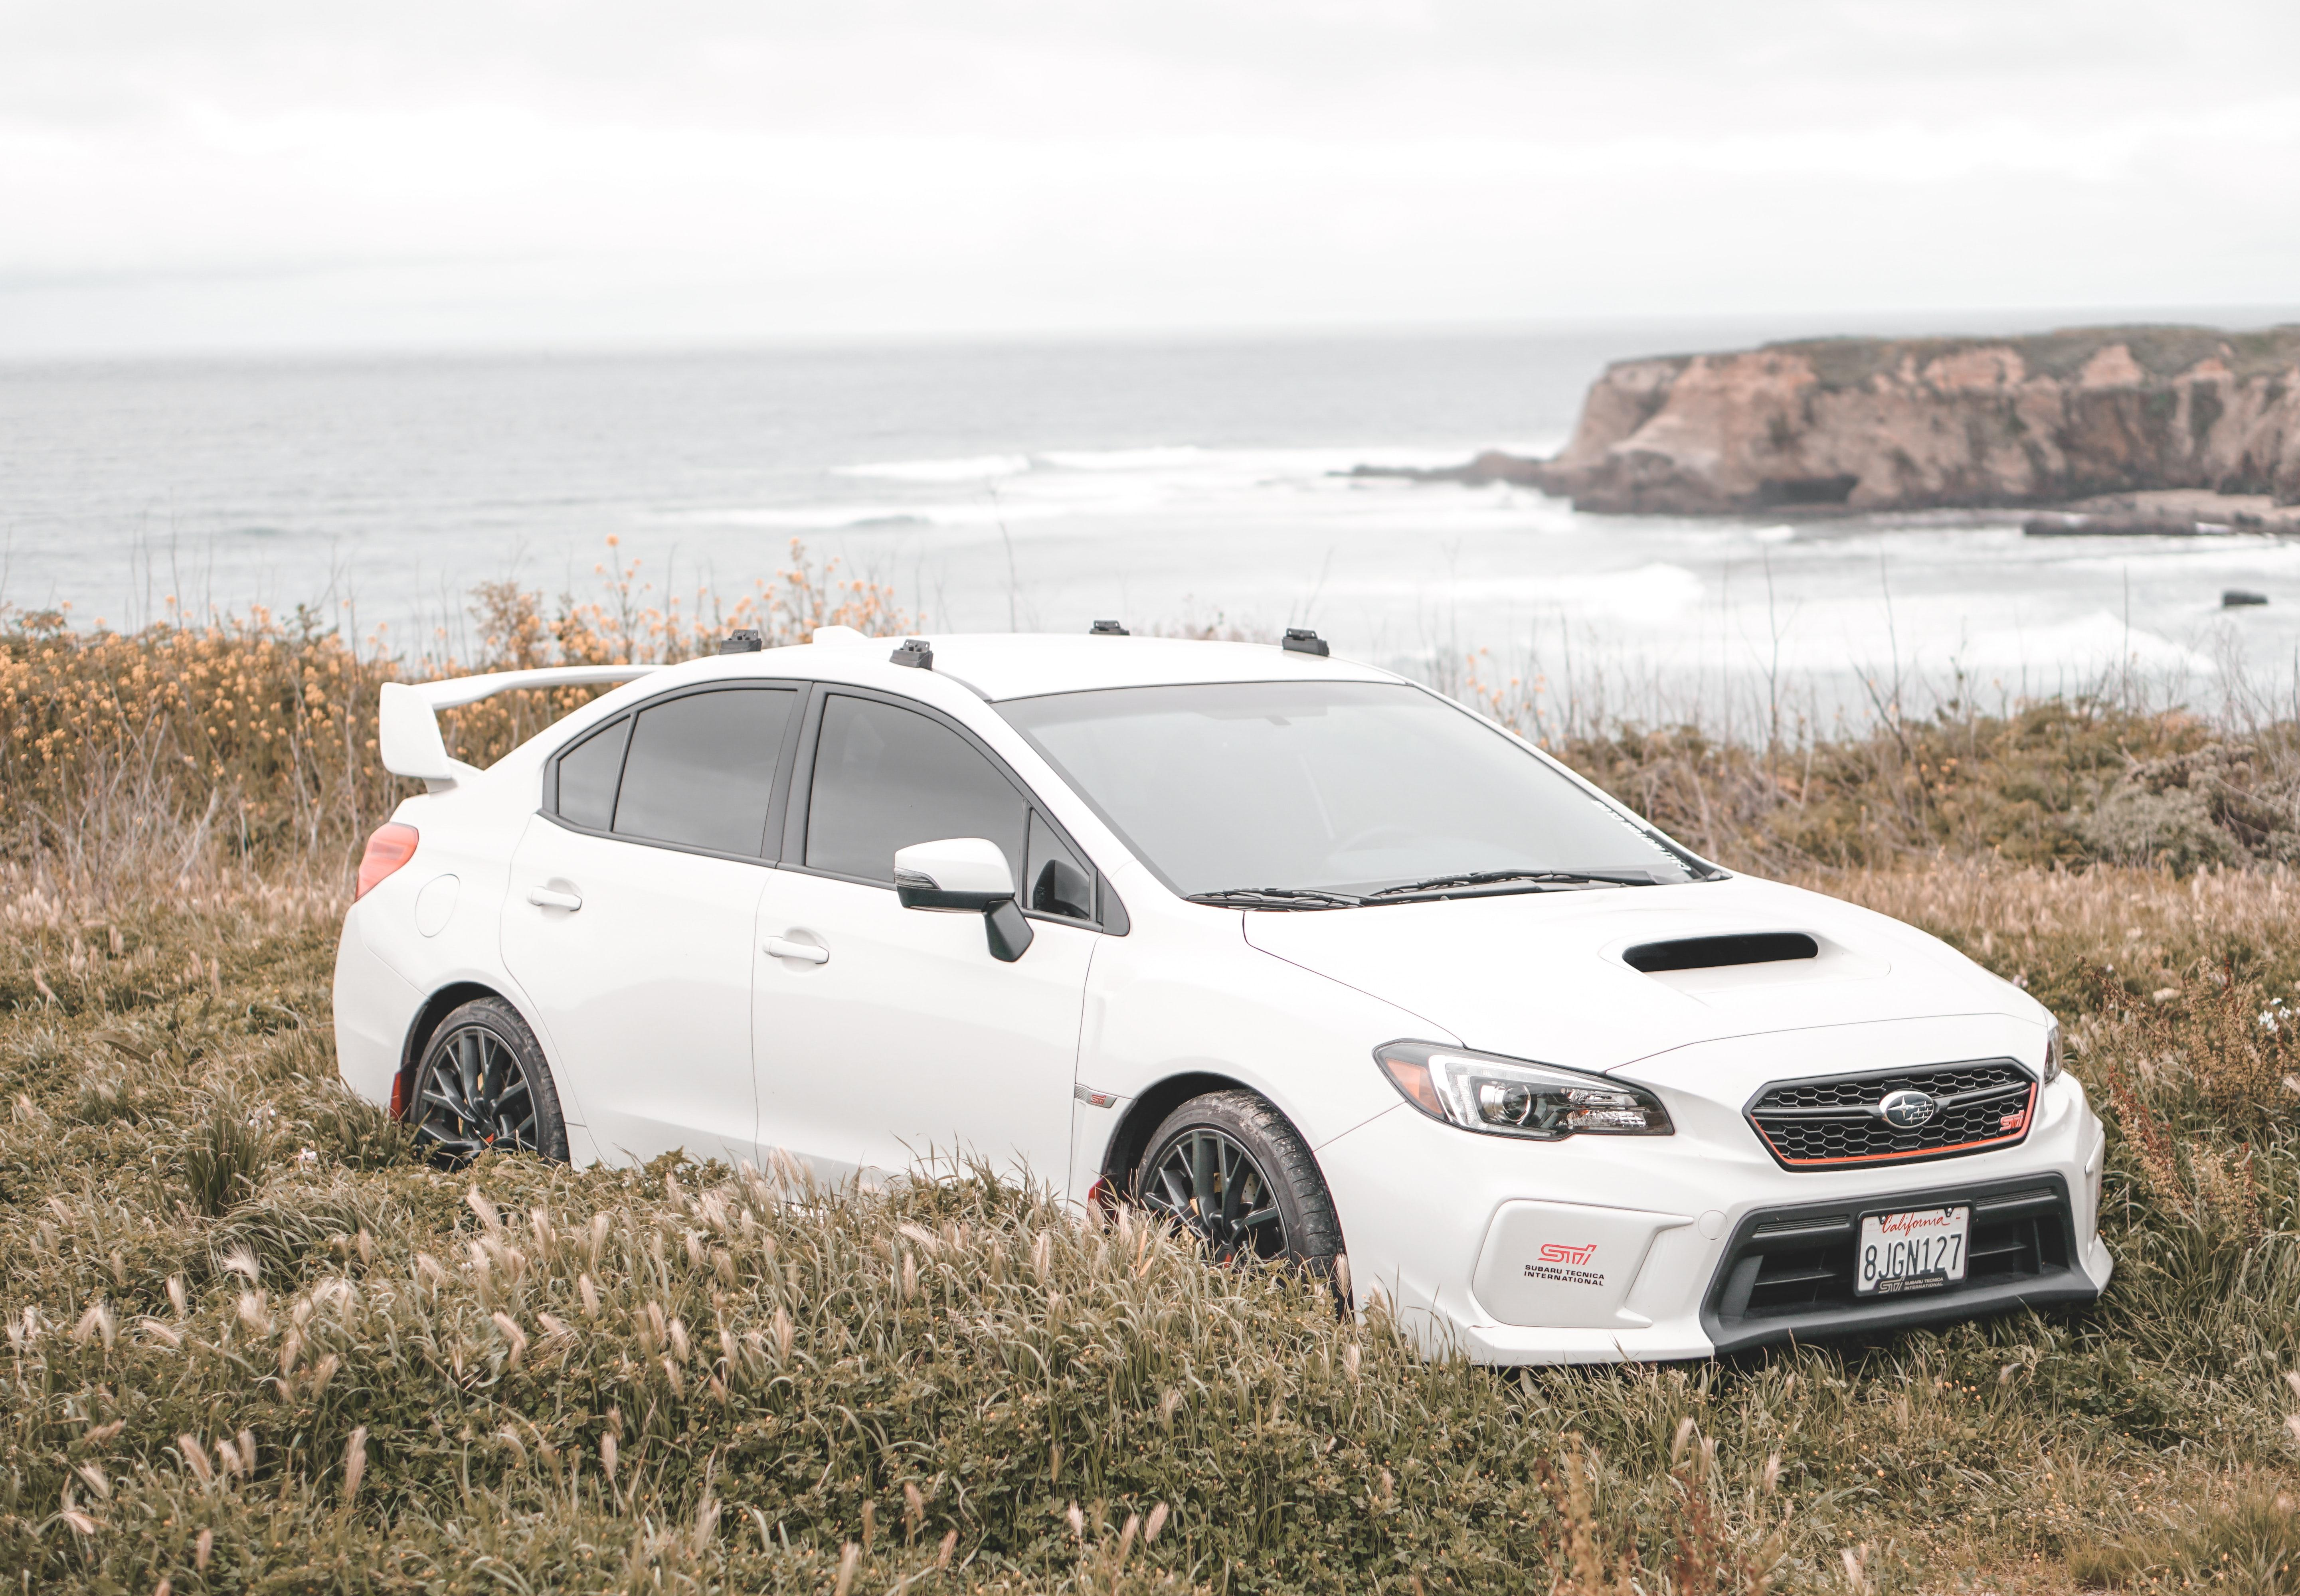subaru: (1849, 1054, 1959, 1162)
